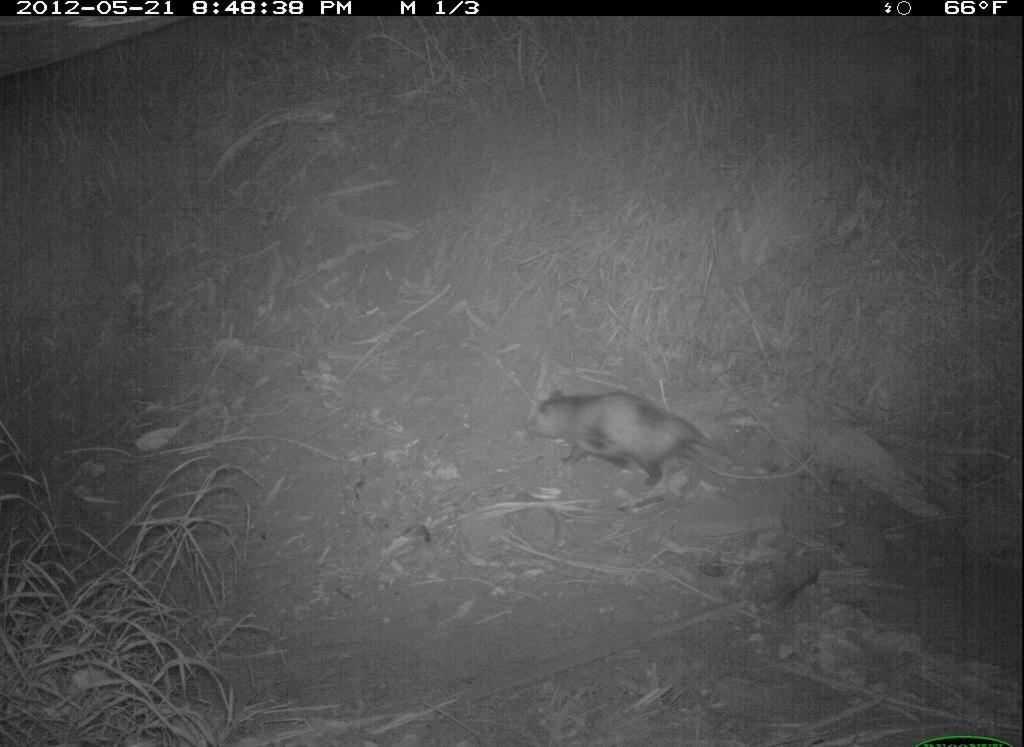opossum: (525, 374, 753, 504)
